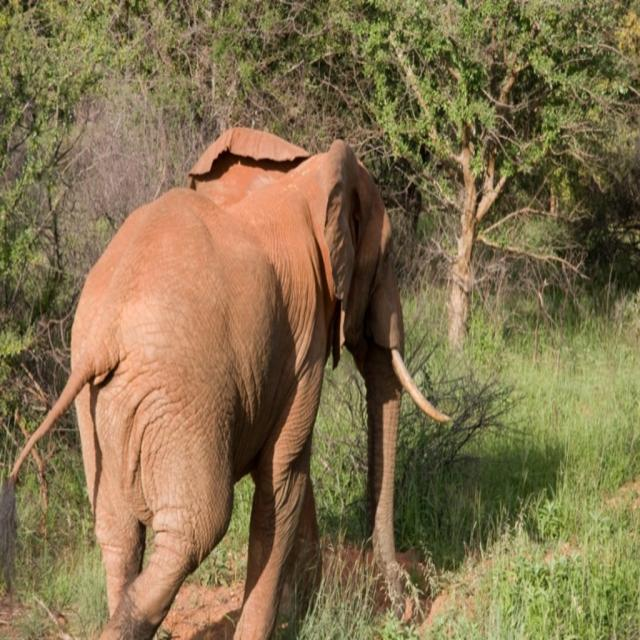Elephant: (0, 125, 452, 640)
